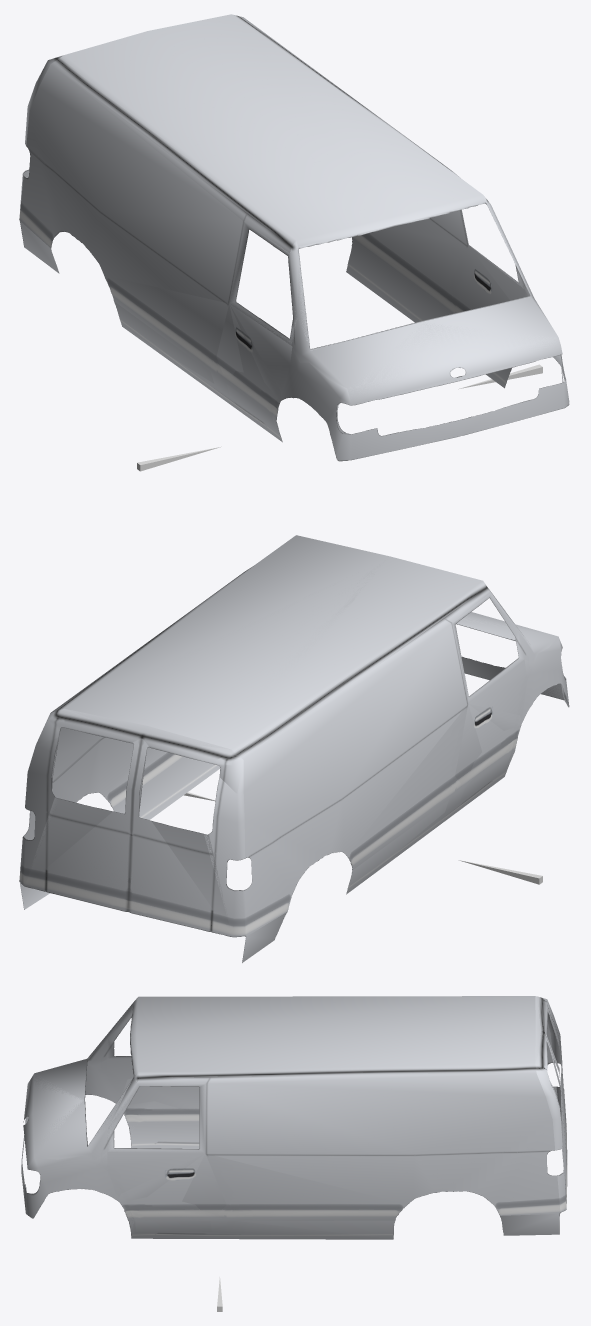
Rendered from Van.FBX.
3 renders of one model, top to bottom at view 1: azimuth 30°, elevation 25°; view 2: azimuth 150°, elevation 25°; view 3: azimuth 270°, elevation 25°, orthographic. The views are drawn at different scales.
Parts seen in each view (by area): view 1: Van1BodyLores, Van2BodyWindowed, Van3BodyDoorCut, DoorR; view 2: Van1BodyLores, Van2BodyWindowed, Van3BodyDoorCut, DoorR; view 3: Van1BodyLores, Van2BodyWindowed, Van3BodyDoorCut, DoorL.
Part boxes in pixels (<box>): Van1BodyLores: <box>19,14,569,461</box>; Van2BodyWindowed: <box>23,55,569,460</box>; Van3BodyDoorCut: <box>51,43,560,442</box>; DoorR: <box>226,213,296,431</box>; Van1BodyLores: <box>19,535,568,962</box>; Van2BodyWindowed: <box>23,560,569,936</box>; Van3BodyDoorCut: <box>84,568,530,893</box>; DoorR: <box>444,588,526,802</box>; Van1BodyLores: <box>21,996,567,1238</box>; Van2BodyWindowed: <box>24,996,566,1220</box>; Van3BodyDoorCut: <box>95,1071,532,1239</box>; DoorL: <box>107,1077,211,1231</box>.
Size of what is drawn, in the model's own units: 334 by 198 by 493.
